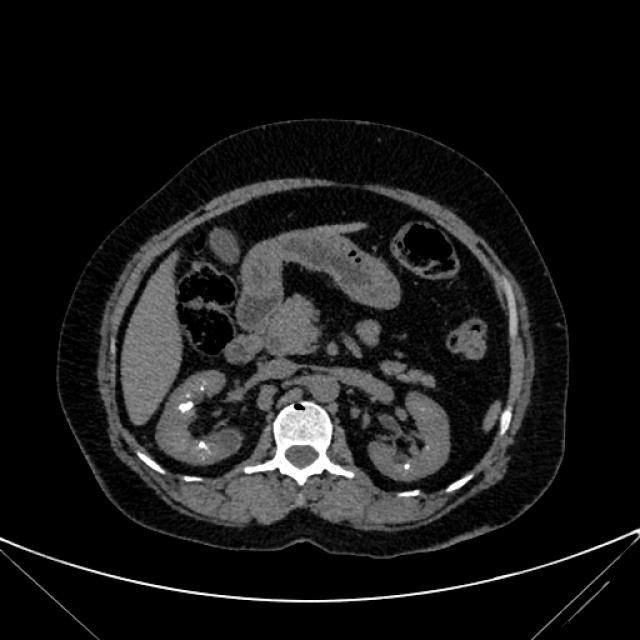kidney: (157, 372, 248, 464), (369, 387, 454, 483)
stone: (177, 398, 194, 413), (195, 440, 208, 450), (400, 462, 413, 471), (199, 383, 206, 391)
